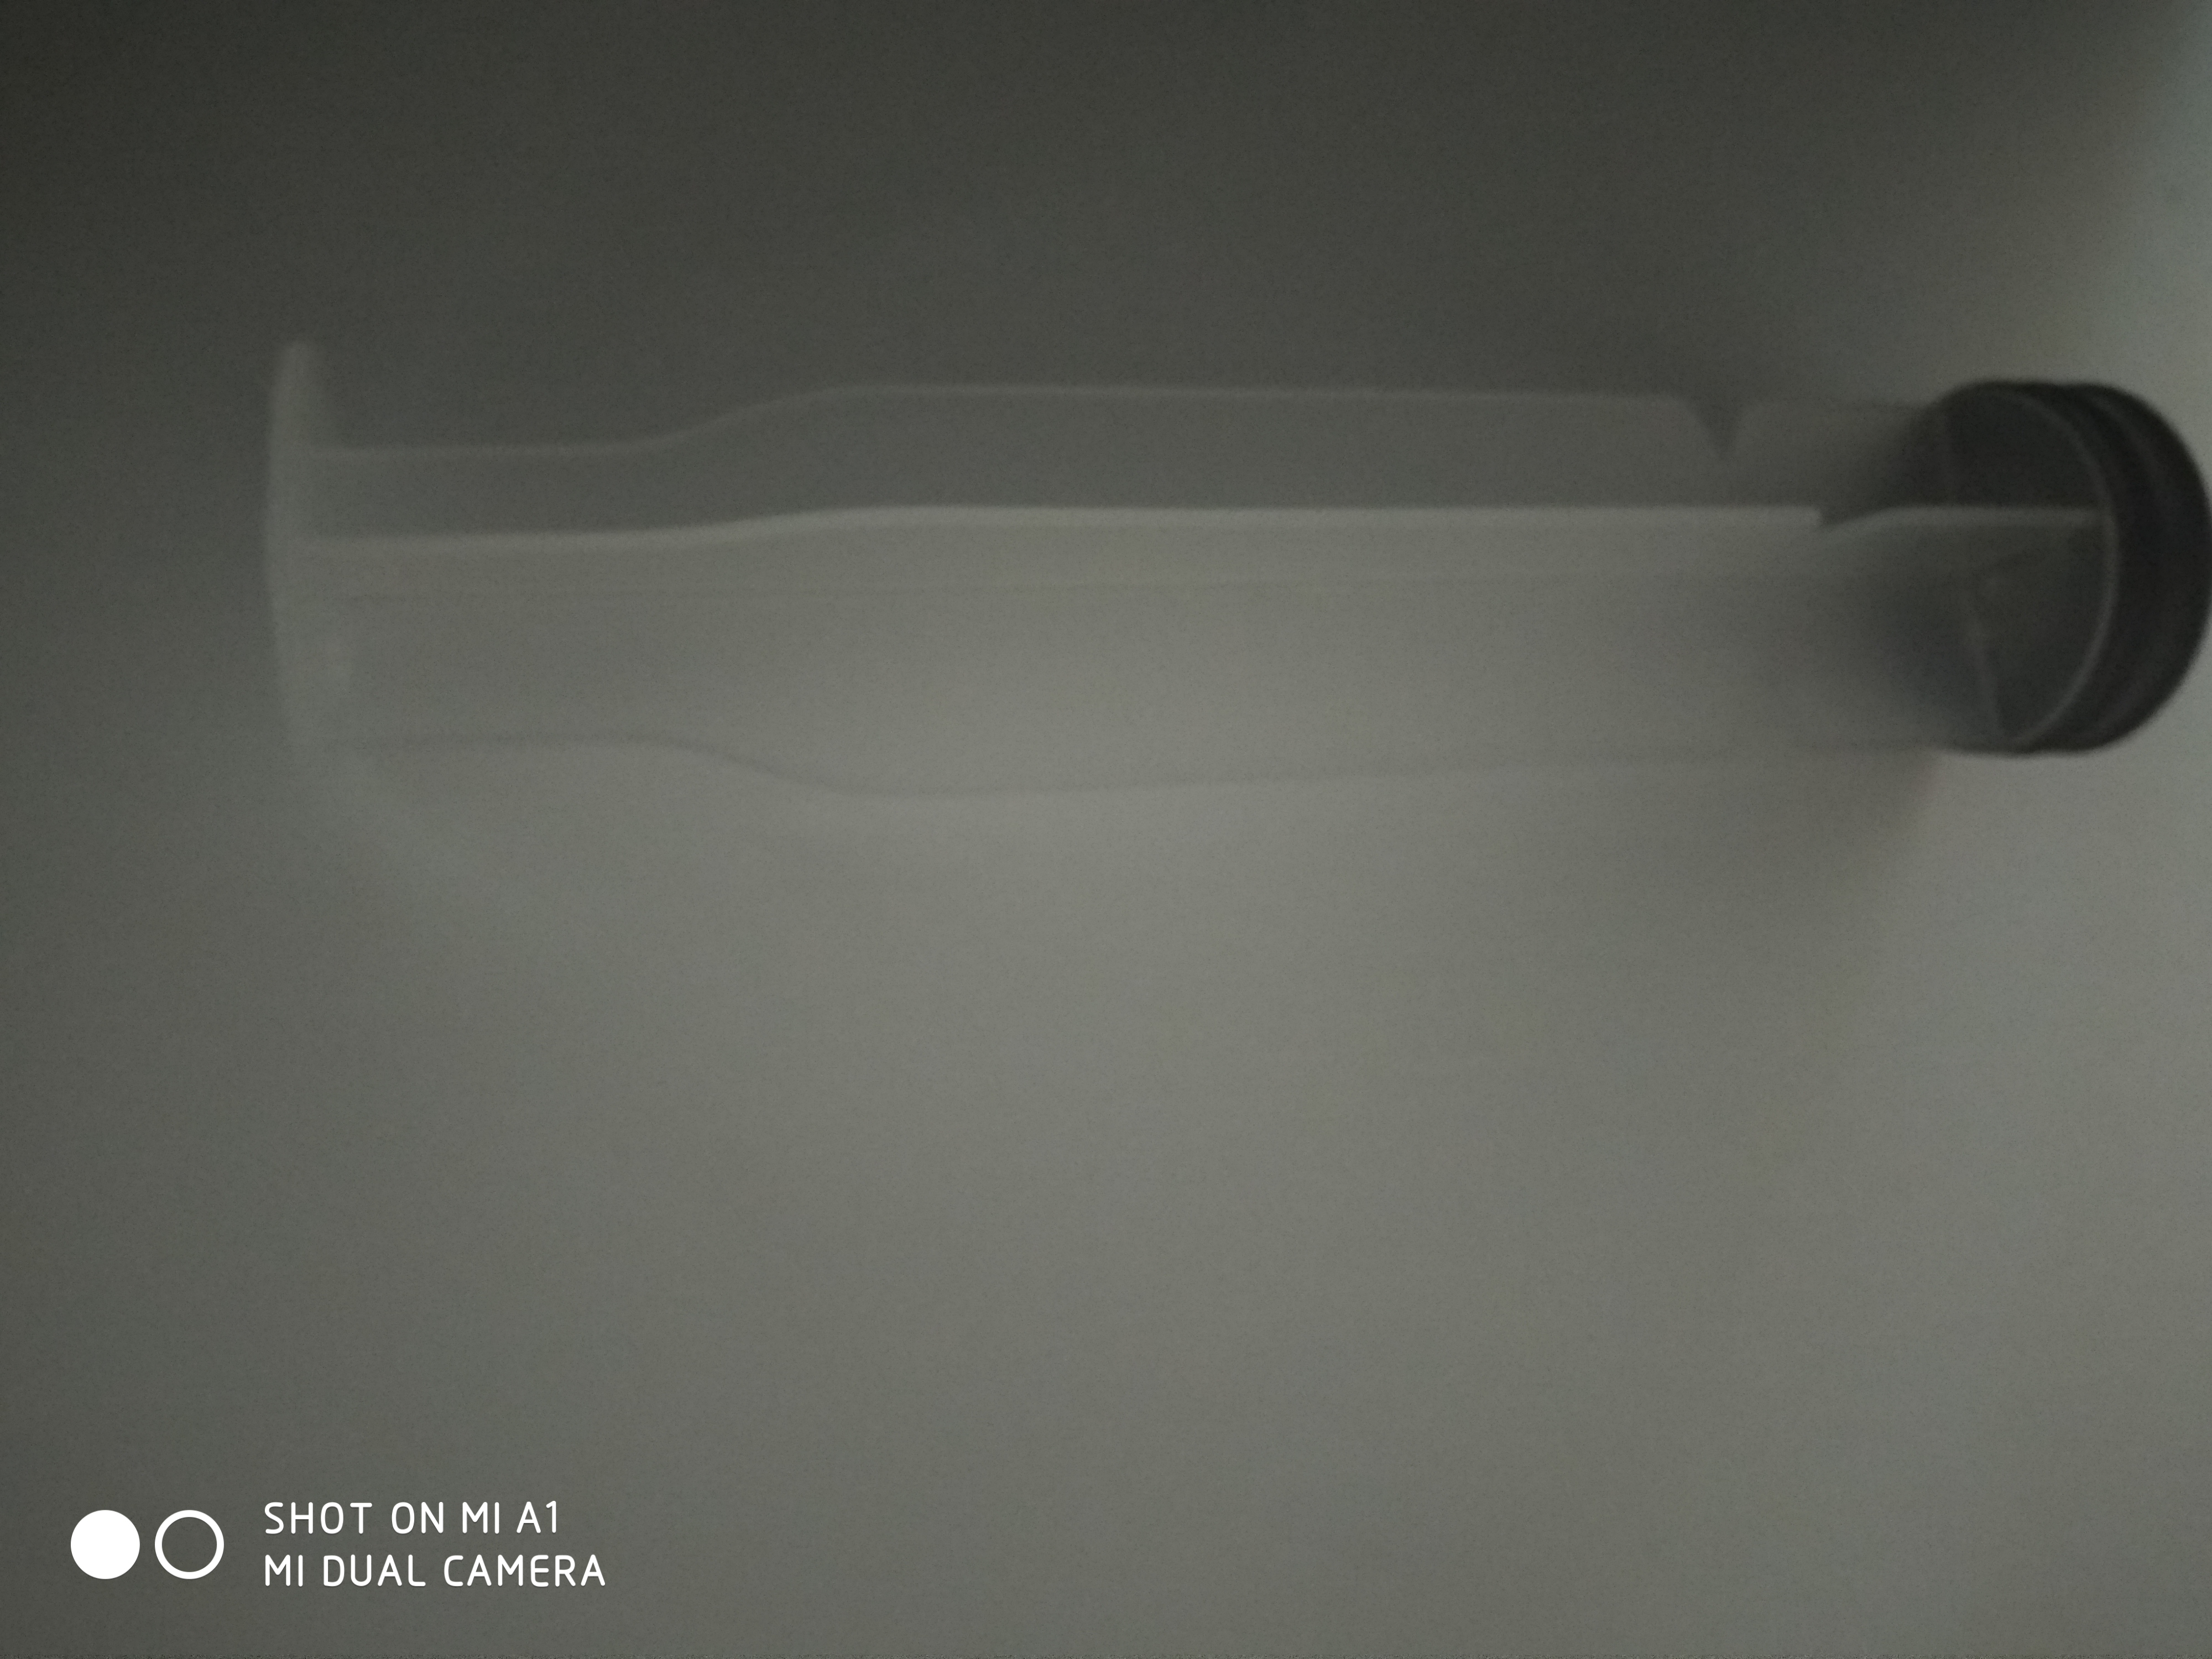plunger: (249, 321, 2212, 777)
